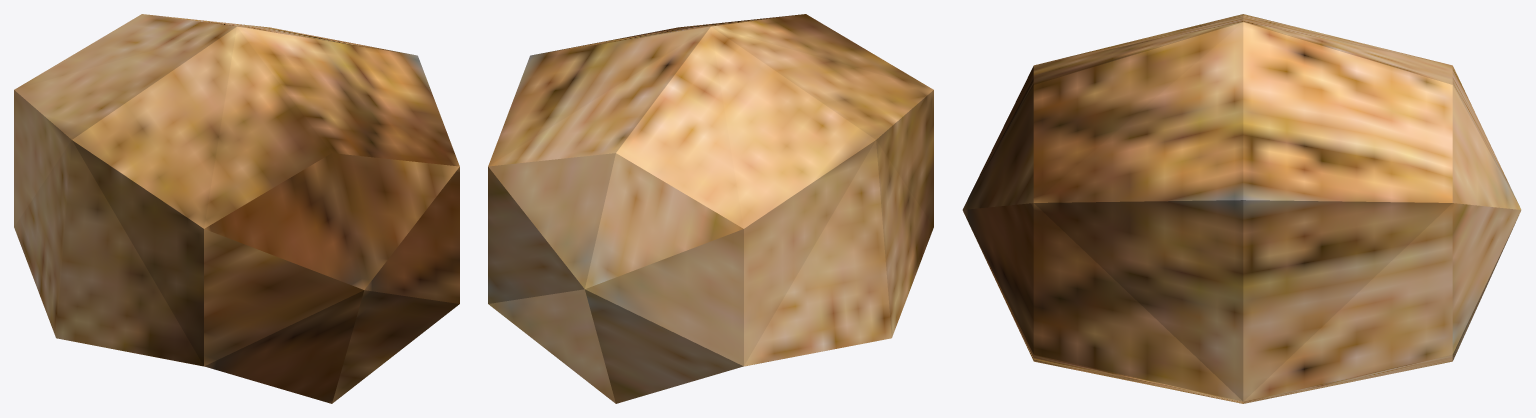
File: WalnutSingle01.obj
3 renders of one model, left to right at view 1: azimuth 30°, elevation 25°; view 2: azimuth 150°, elevation 25°; view 3: azimuth 270°, elevation 25°, orthographic. The views are drawn at different scales.
Parts seen in each view (by area): view 1: Walnut01; view 2: Walnut01; view 3: Walnut01.
Boxes of the visible parts, bbox=[...] form: Walnut01: bbox=[14, 14, 459, 403]; Walnut01: bbox=[488, 14, 933, 403]; Walnut01: bbox=[962, 14, 1521, 403].
Bounding box in the file's own units: 0.0564 × 0.0516 × 0.0685.
